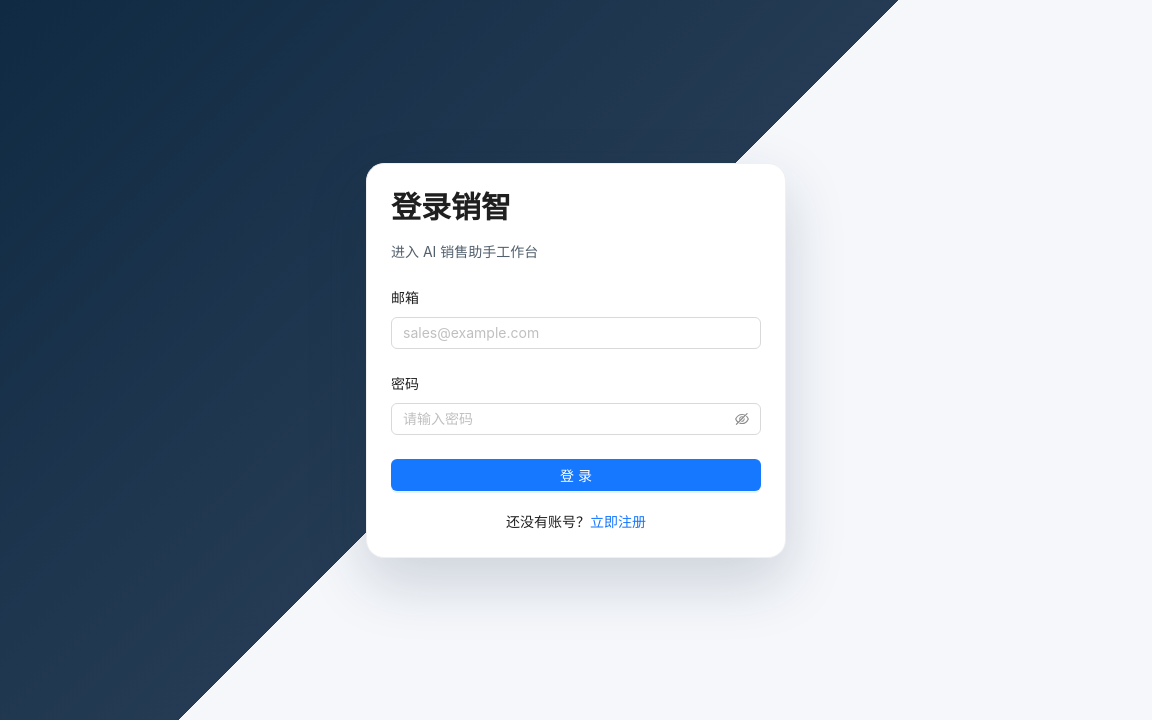
Test: LoginPage › 邮箱格式非法时不提交登录
The width and height of the screenshot is (1152, 720).
In the field labelled "邮箱": (576, 332) [391, 316, 761, 348], type "bad-email"
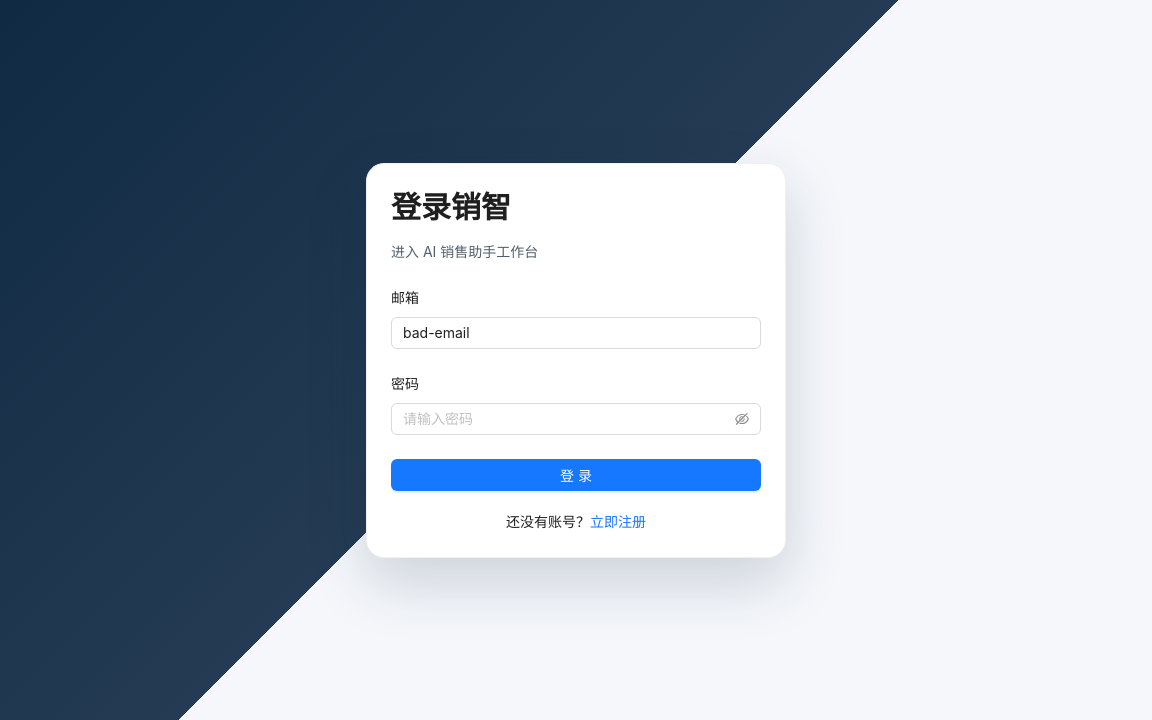
In the password field labelled "密码": (567, 418) [403, 408, 731, 430], type "password123"
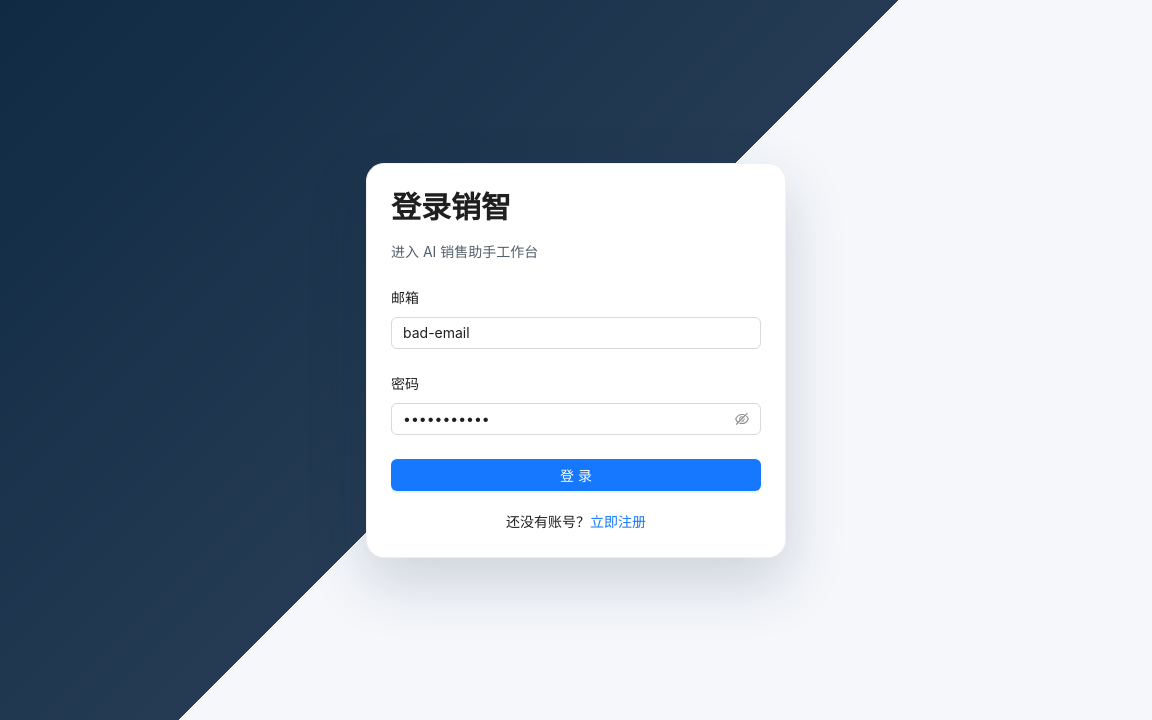
Click the button "登 录": (576, 474) [391, 458, 761, 490]
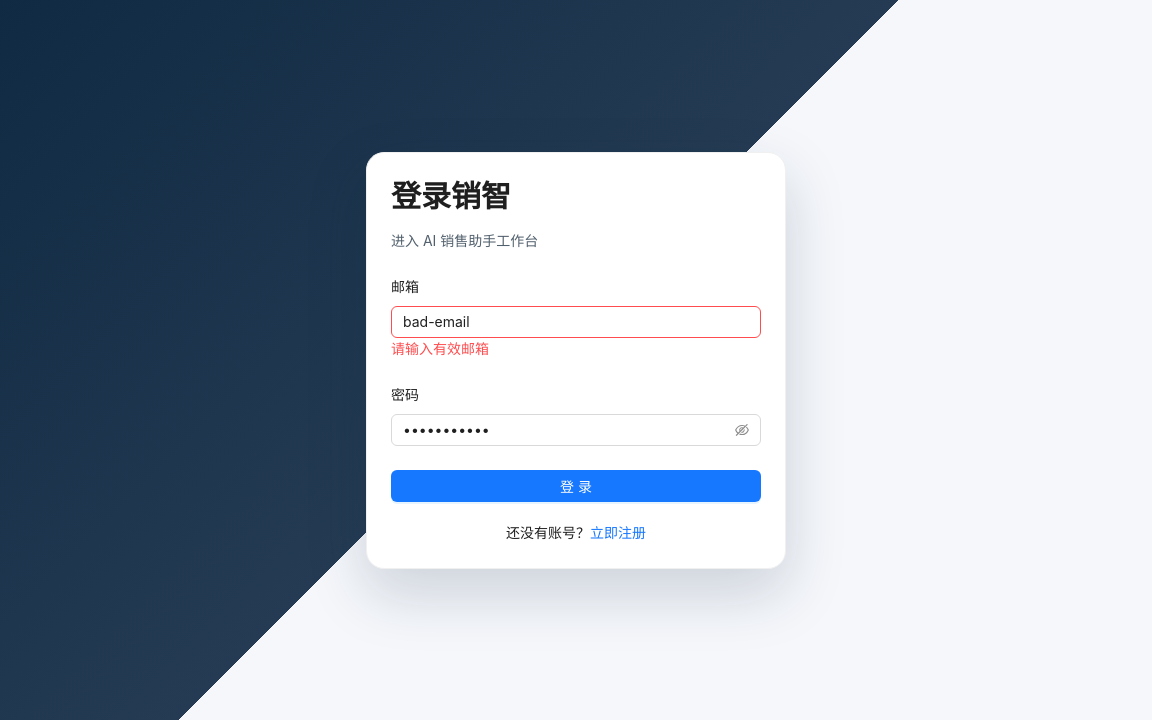
Now the text "请输入有效邮箱" is shown, box [391, 340, 489, 356]
